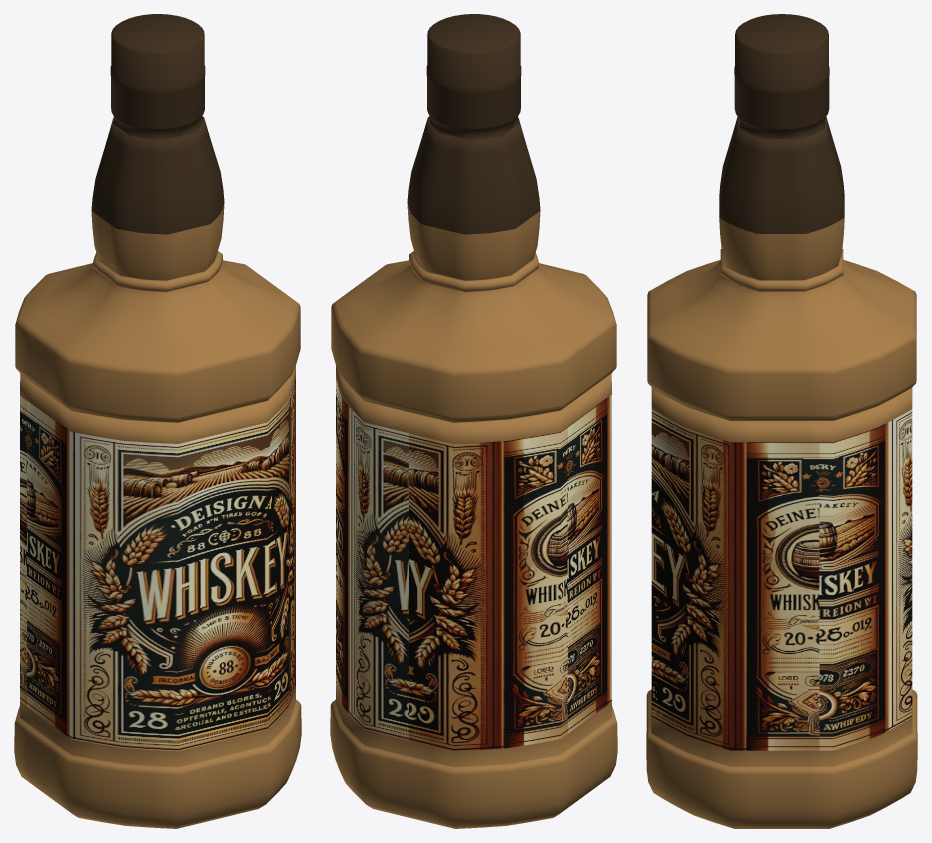
The model's file is whiskey.glb.
The picture shows the model from 3 angles, left to right: view 1: azimuth 30°, elevation 25°; view 2: azimuth 150°, elevation 25°; view 3: azimuth 270°, elevation 25°; orthographic projection.
Parts seen in each view (by area): view 1: 원형; view 2: 원형; view 3: 원형.
Part boxes in pixels (x1,y1,x2,y2): 원형: (14,14,301,828); 원형: (330,14,617,828); 원형: (646,14,917,828).
Bounding box in the file's own units: 1.46 × 4.45 × 1.46.
3 materials, 1 textured.
